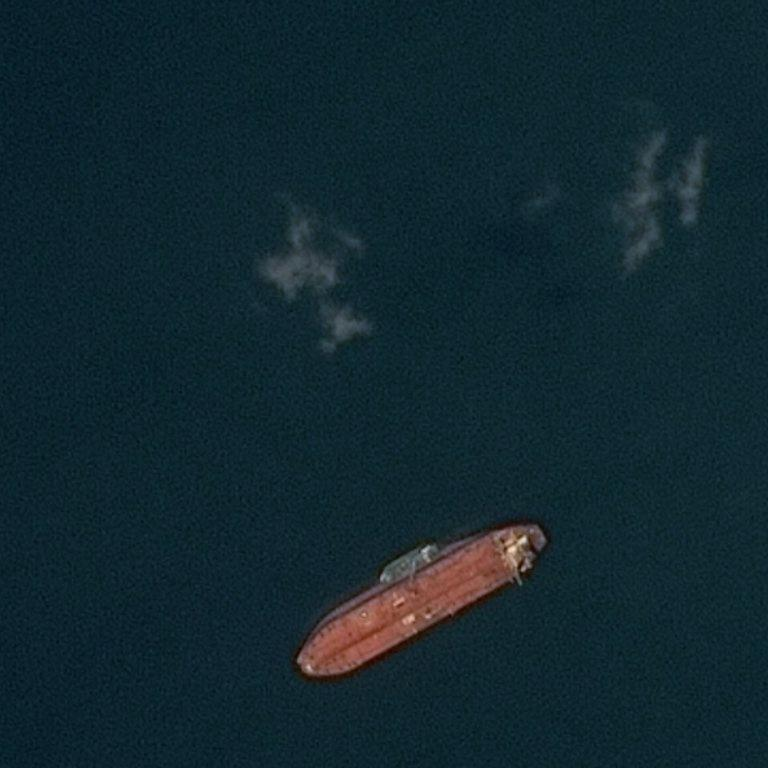ship: (291, 522, 552, 682), (294, 656, 306, 674), (525, 521, 538, 532), (539, 539, 549, 548)
